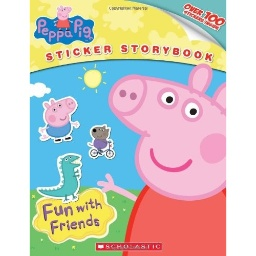Peppa: (96, 62, 227, 256)
